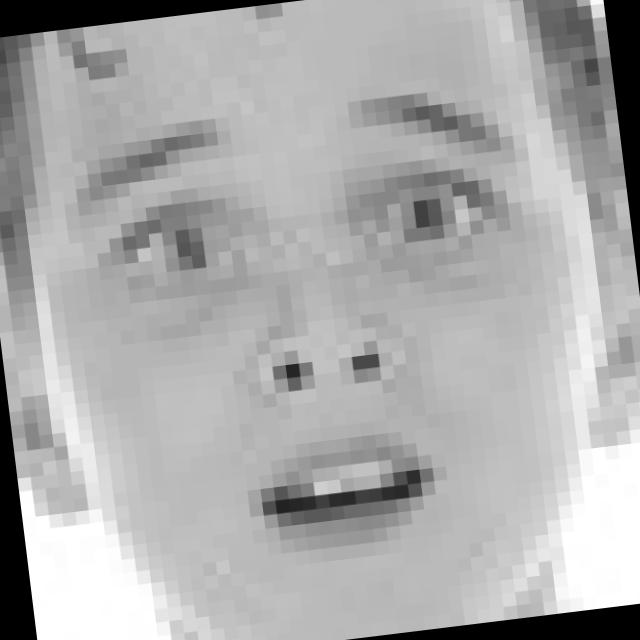fear: (50, 74, 564, 580)
